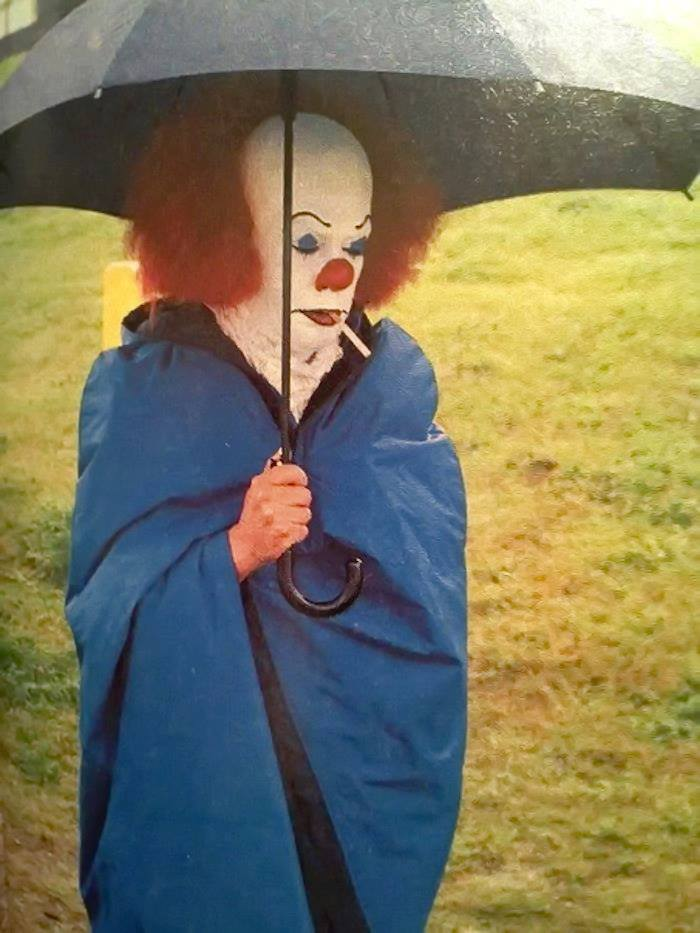cigarette: (336, 307, 372, 356)
